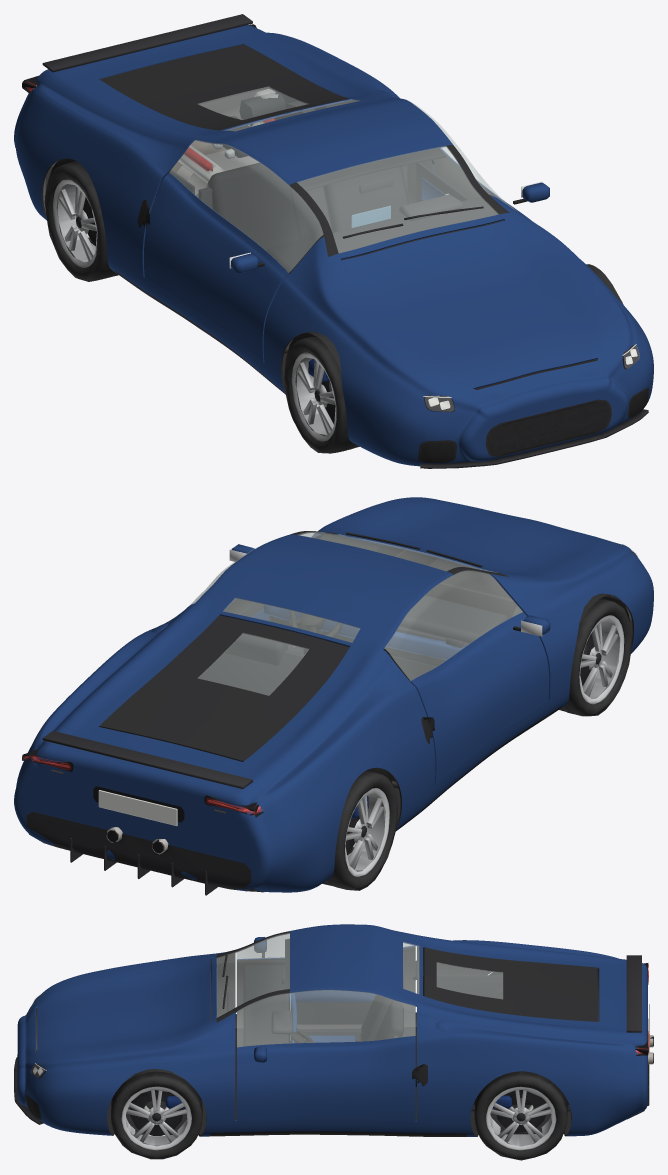
3 renders of one model, top to bottom at view 1: azimuth 30°, elevation 25°; view 2: azimuth 150°, elevation 25°; view 3: azimuth 270°, elevation 25°, orthographic. The views are drawn at different scales.
Visible parts, largest first — view 1: Body, Hood, Door_FR, Windshield, Tailgate, Door_FR_Glass, Seat_FR_Back, Dash_Top, Grille0_Mesh, Seat_FL_Back, Wheel_FR_Tire, Wheel_RR_Tire (+14 smaller); view 2: Body, Tailgate, Door_FR, Hood, Door_FR_Glass, Diffuser, Tailgate_Glass, Wheel_RR_Tire, Dash_Top, Wheel_FR_Tire, Firewall_Rear, Spoiler (+13 smaller); view 3: Body, Door_FL, Hood, Door_FL_Glass, Tailgate, Windshield, Wheel_RL_Tire, Wheel_FL_Tire, Dash_Top, Tailgate_Glass, Door_FR_Card, Door_FR (+14 smaller).
Boxes of the visible parts, x1,y1,x2,y2 form: Body: (14,25,653,466); Hood: (341,220,602,388); Door_FR: (144,172,288,362); Windshield: (297,146,498,252); Tailgate: (100,44,349,130); Door_FR_Glass: (169,140,323,272); Seat_FR_Back: (208,162,301,250); Dash_Top: (267,197,503,273); Grille0_Mesh: (488,403,609,454); Seat_FL_Back: (323,166,408,232); Wheel_FR_Tire: (284,335,359,453); Wheel_RR_Tire: (44,161,118,281); Body: (14,497,653,892); Tailgate: (99,615,349,761); Door_FR: (410,612,549,785); Hood: (341,502,601,575); Door_FR_Glass: (384,570,522,680); Diffuser: (26,812,263,892); Tailgate_Glass: (198,633,308,695); Wheel_RR_Tire: (322,770,397,890); Dash_Top: (399,595,507,643); Wheel_FR_Tire: (559,598,631,716); Firewall_Rear: (198,650,395,781); Spoiler: (42,731,252,788); Body: (17,924,647,1136); Door_FL: (237,1036,415,1121); Hood: (37,959,210,1052); Door_FL_Glass: (237,990,415,1046); Tailgate: (424,947,597,1021); Windshield: (217,933,289,1017); Wheel_RL_Tire: (474,1071,567,1160); Wheel_FL_Tire: (111,1071,202,1159); Dash_Top: (243,965,288,1046); Tailgate_Glass: (437,962,502,998); Door_FR_Card: (296,1002,371,1024); Door_FR: (237,945,415,1014).
Size of the model in its own units: 2.07 by 1.24 by 4.74.
